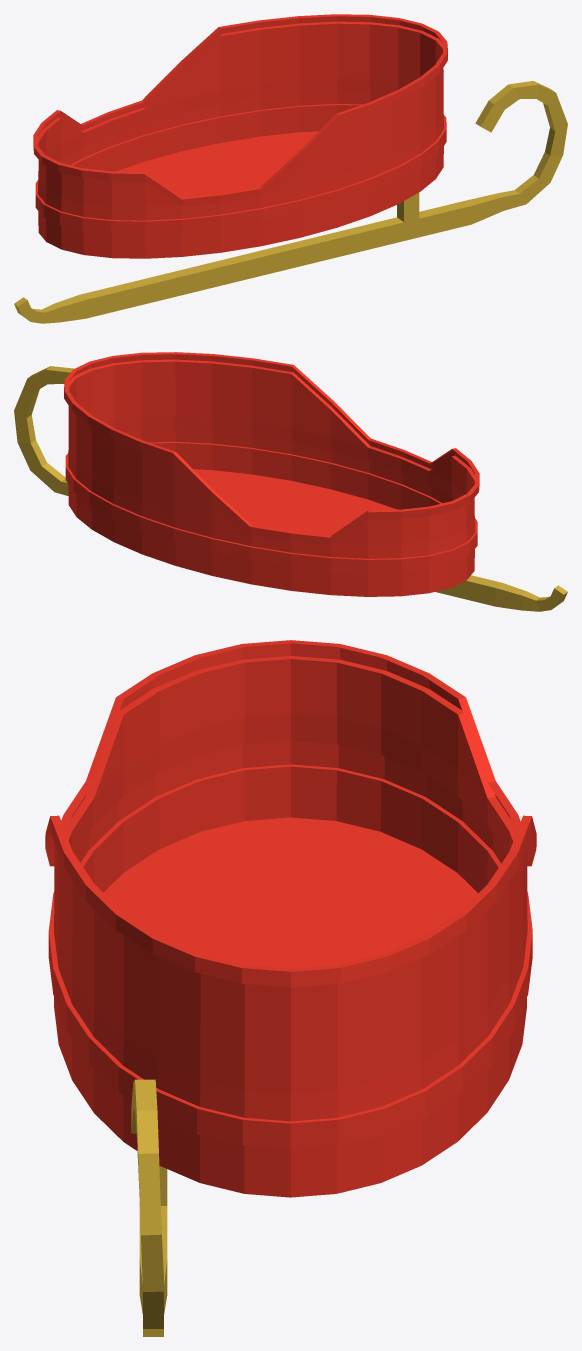
File: treno.glb
The picture shows the model from 3 angles, top to bottom: view 1: azimuth 30°, elevation 25°; view 2: azimuth 150°, elevation 25°; view 3: azimuth 270°, elevation 25°; orthographic projection. The views are drawn at different scales.
Visible parts, largest first — view 1: Carapaca, SuportePe001.001, Pe001; view 2: Carapaca, SuportePe001.001; view 3: Carapaca, SuportePe001.001.
Part boxes in pixels (x1,y1,x2,y2): Carapaca: (33,14,447,258); SuportePe001.001: (14,81,567,323); Pe001: (397,192,419,222); Carapaca: (64,352,479,596); SuportePe001.001: (14,366,567,611); Carapaca: (45,640,536,1197); SuportePe001.001: (131,1079,167,1336).
Bounding box in the file's own units: 6.19 × 1.77 × 2.4.
